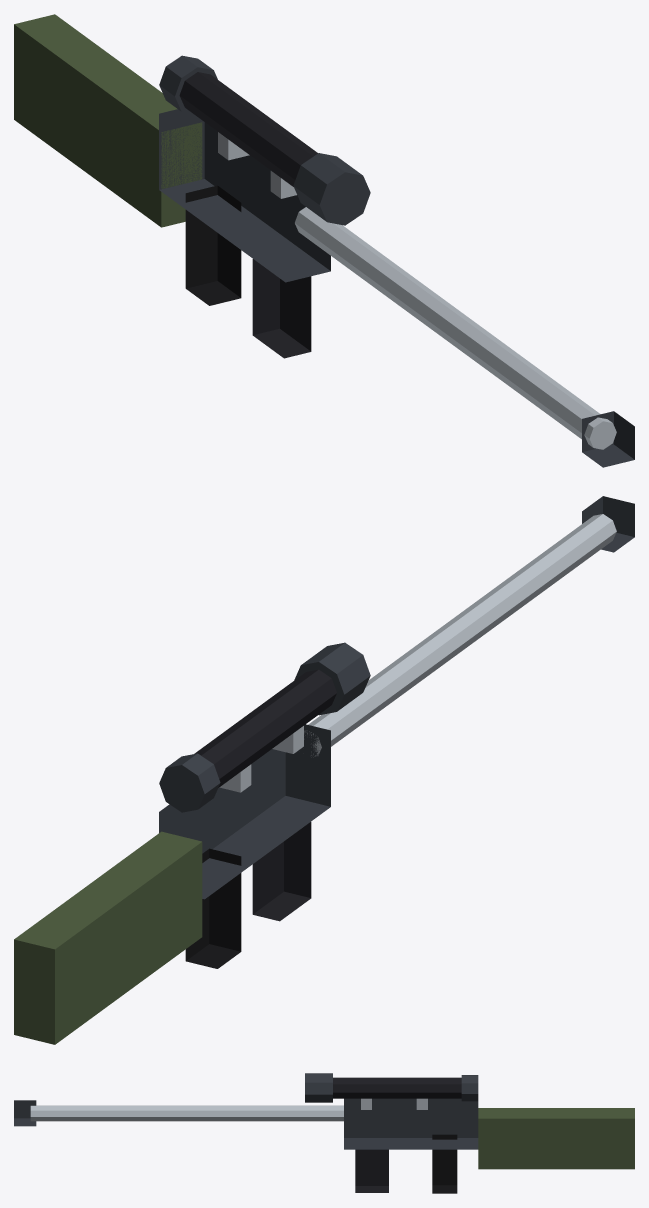
File: Weapon_SniperRifle.obj
3 renders of one model, top to bottom at view 1: azimuth 30°, elevation 25°; view 2: azimuth 150°, elevation 25°; view 3: azimuth 270°, elevation 25°, orthographic. The views are drawn at different scales.
Visible parts, largest first — view 1: ChassisStock, ActionReceiver, HeavyBarrel, ScopeTube, BoxMag, Grip, ScopeObjective, MuzzleBrake, ScopeEyepiece; view 2: ChassisStock, ActionReceiver, HeavyBarrel, ScopeTube, BoxMag, Grip, ScopeEyepiece, ScopeObjective, MuzzleBrake; view 3: ChassisStock, ActionReceiver, HeavyBarrel, ScopeTube, BoxMag, Grip, ScopeObjective, MuzzleBrake, ScopeEyepiece.
Boxes of the visible parts, <box> form: ChassisStock: <box>14,14,202,227</box>; ActionReceiver: <box>159,109,330,282</box>; HeavyBarrel: <box>295,207,616,449</box>; ScopeTube: <box>179,72,317,186</box>; BoxMag: <box>252,259,311,358</box>; Grip: <box>185,185,241,305</box>; ScopeObjective: <box>293,153,370,225</box>; MuzzleBrake: <box>582,411,634,467</box>; ScopeEyepiece: <box>159,55,217,113</box>; ChassisStock: <box>14,831,202,1044</box>; ActionReceiver: <box>159,724,330,899</box>; HeavyBarrel: <box>304,514,616,757</box>; ScopeTube: <box>194,669,336,787</box>; BoxMag: <box>252,822,311,921</box>; Grip: <box>185,848,241,968</box>; ScopeEyepiece: <box>159,753,220,812</box>; ScopeObjective: <box>294,642,370,715</box>; MuzzleBrake: <box>582,496,634,552</box>; ChassisStock: <box>478,1108,634,1169</box>; ActionReceiver: <box>344,1098,478,1149</box>; HeavyBarrel: <box>30,1105,343,1121</box>; ScopeTube: <box>333,1077,461,1098</box>; BoxMag: <box>355,1149,388,1192</box>; Grip: <box>432,1134,457,1193</box>; ScopeObjective: <box>305,1073,332,1102</box>; MuzzleBrake: <box>14,1100,36,1126</box>; ScopeEyepiece: <box>461,1075,478,1101</box>.
Size of the model in its own units: 0.056 by 0.228 by 1.11.
